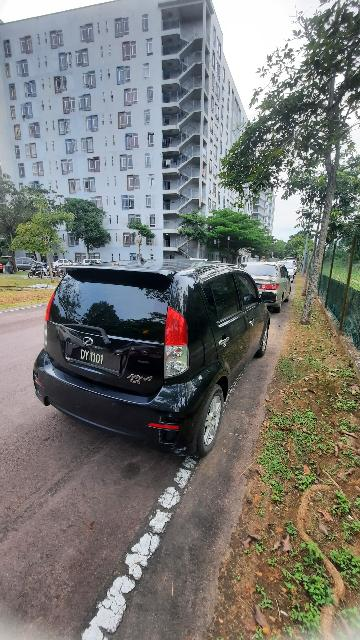License_Plate: (63, 338, 129, 382)
car: (30, 262, 277, 461)
